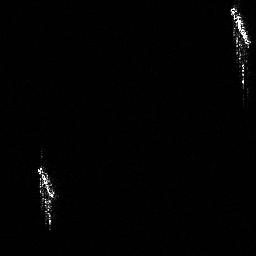ship: (228, 3, 253, 94), (33, 162, 61, 232)
